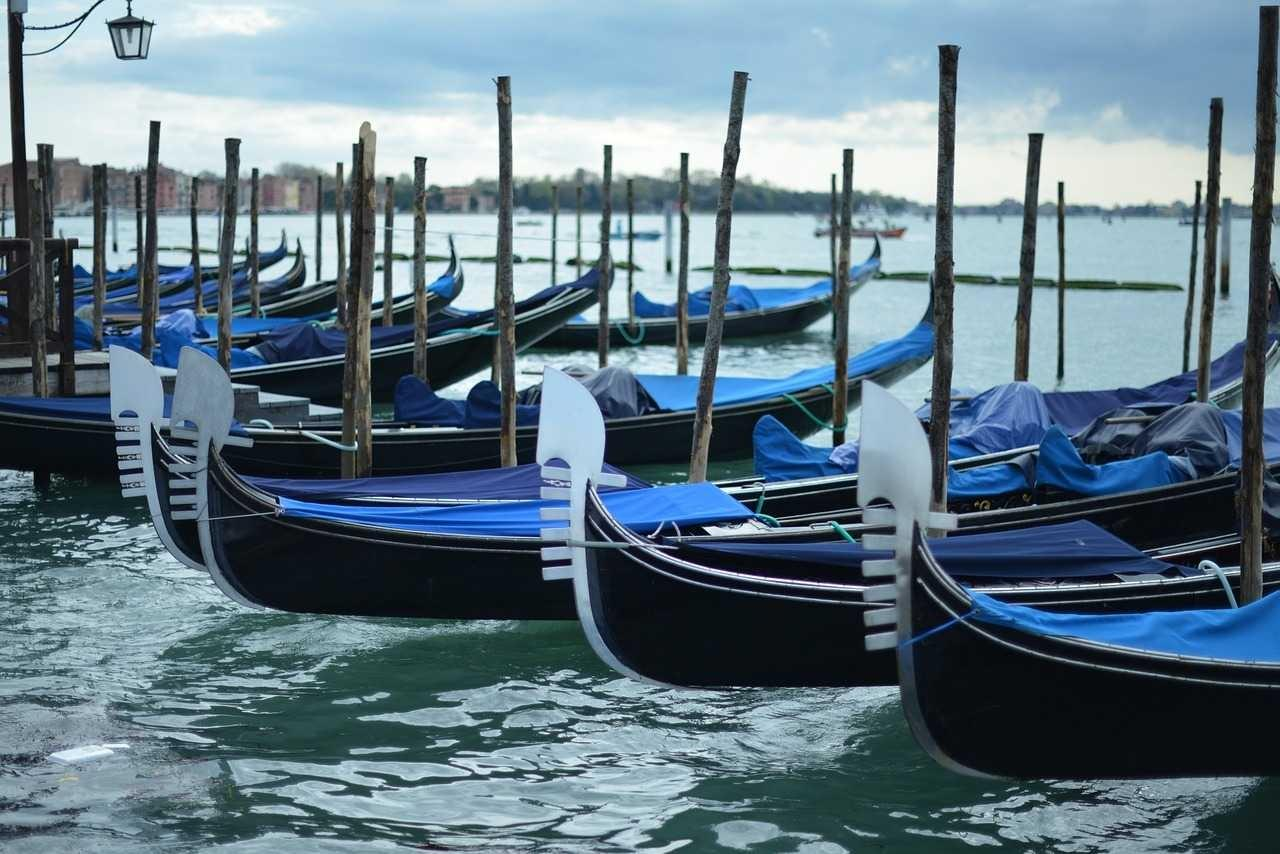kayak: (118, 308, 937, 616), (569, 341, 1273, 689), (2, 268, 615, 471), (894, 513, 1278, 783), (227, 262, 608, 403), (576, 237, 883, 343), (171, 235, 450, 344), (97, 246, 314, 327), (812, 216, 910, 238)
